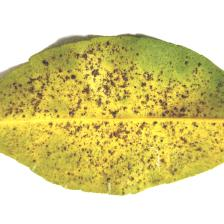canker: (53, 63, 188, 174)
